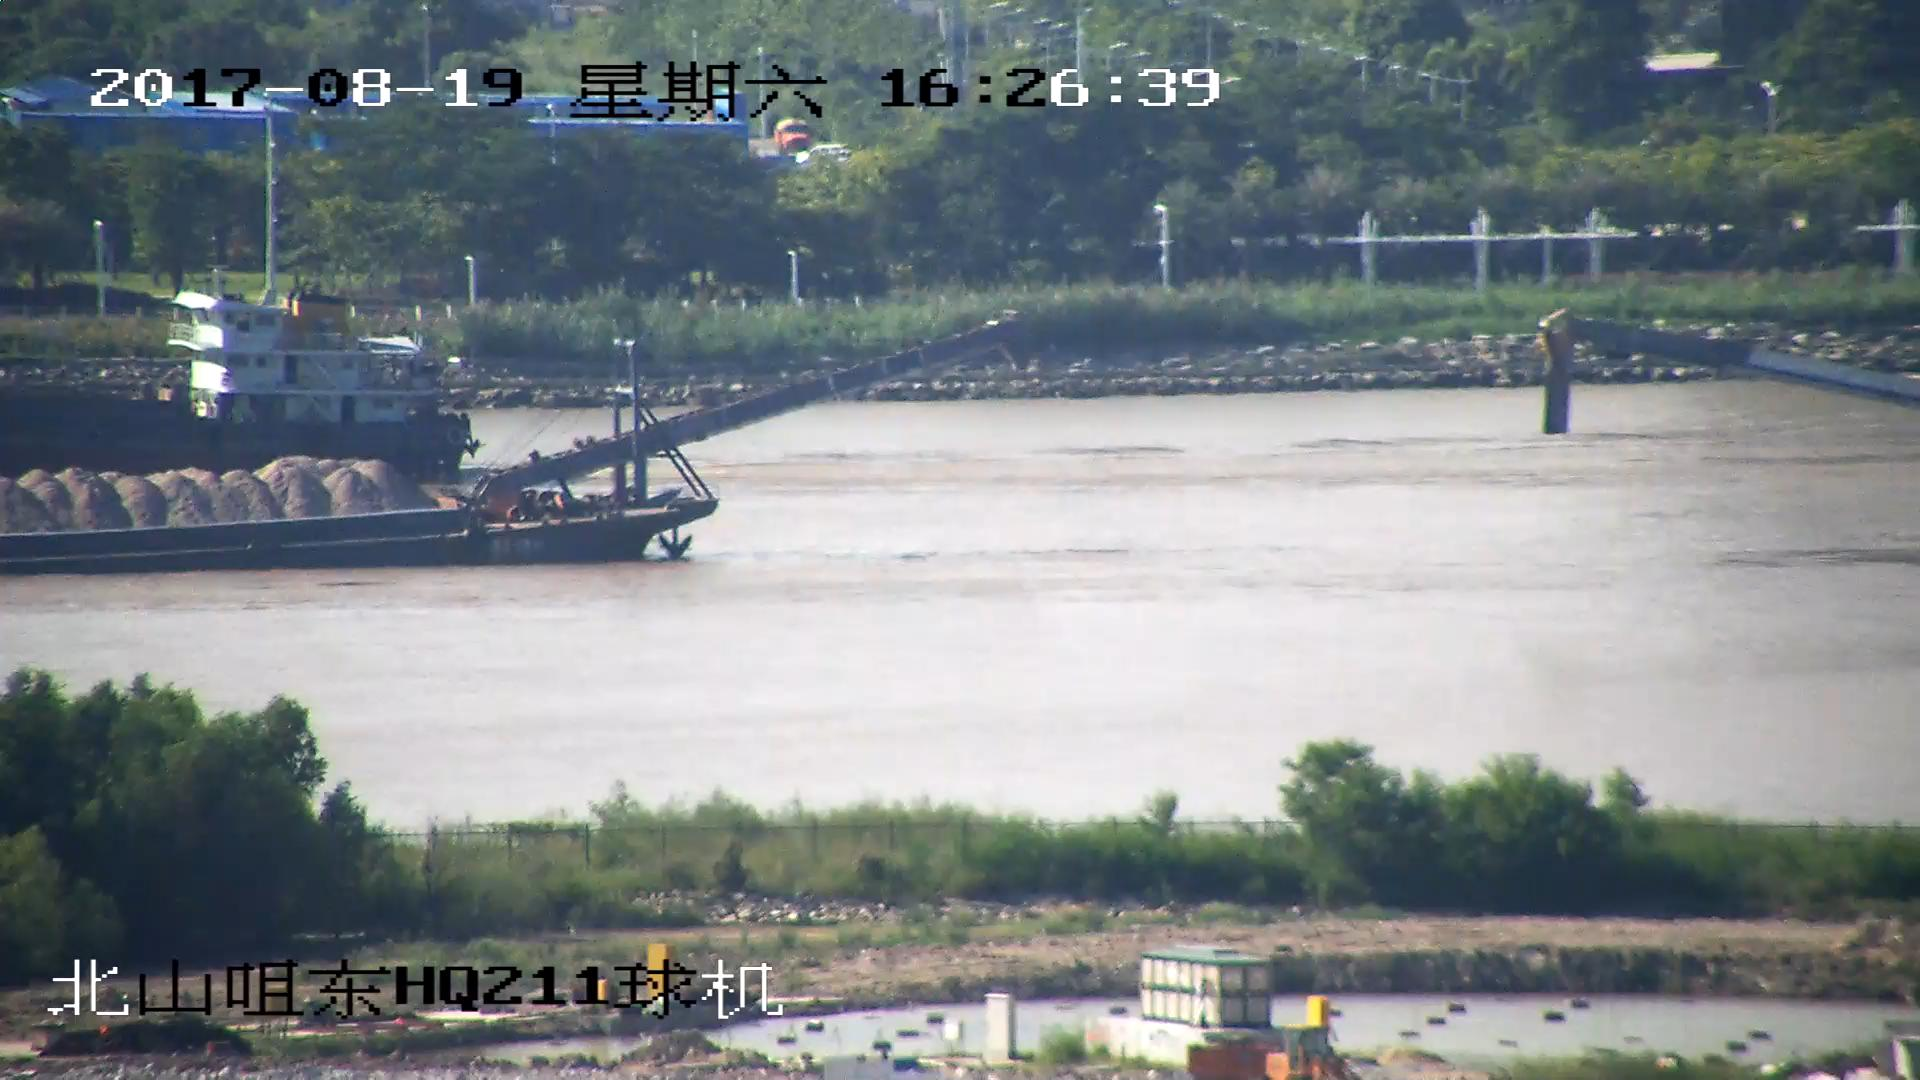bulk cargo carrier: (1, 295, 462, 472)
ore carrier: (1, 320, 1005, 572)
